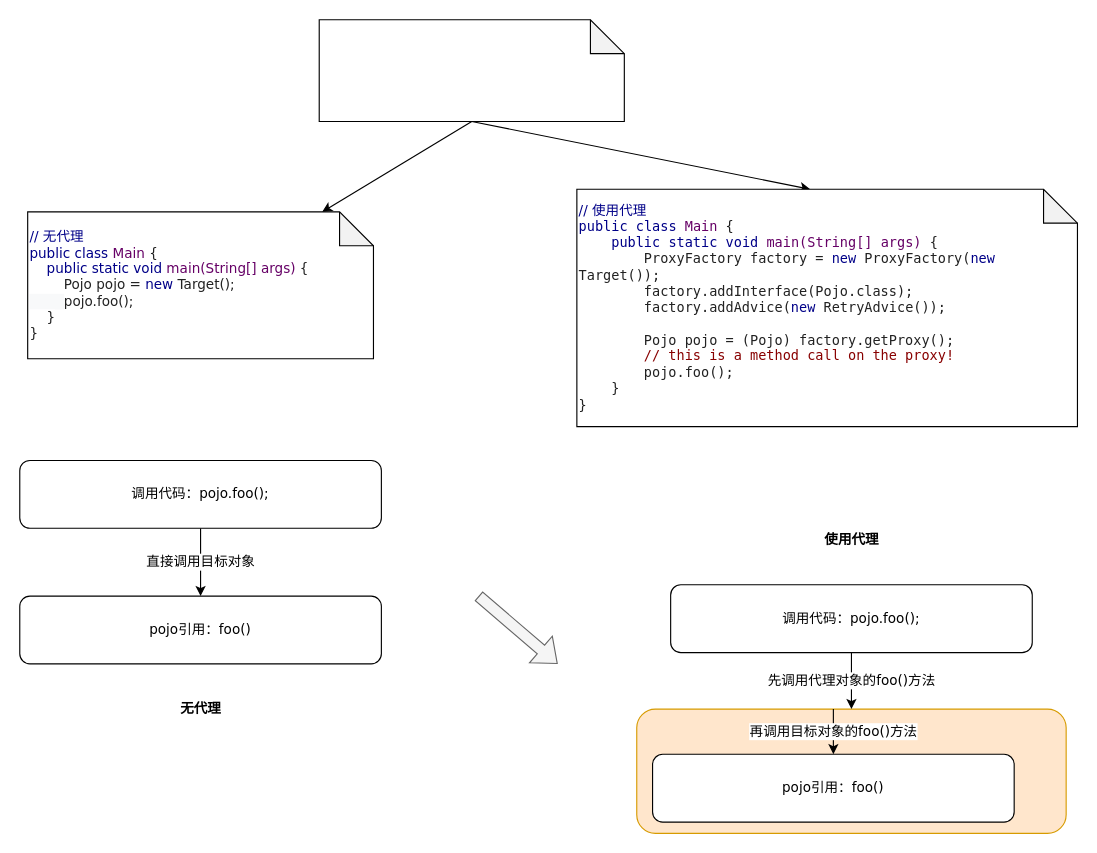
Image size: 1097x853. Some labels were removed from this diagram. The shapes that lost their labels are listed below. From the top down, each one's box as (x1, y1, x2, y2) in pixels, then its label:
(318, 19, 624, 121): // 目标类 public class Target implements Pojo { public void foo () { } }
(636, 708, 1066, 833): Proxy
